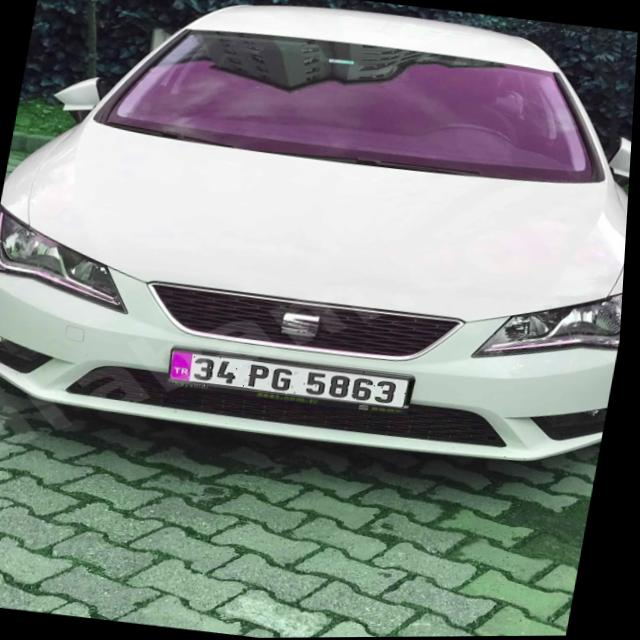license_plate: (172, 348, 419, 411)
